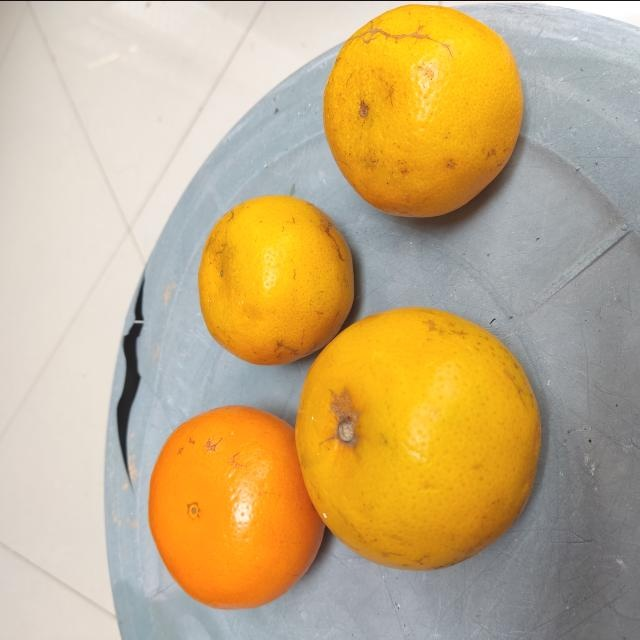agrume: (295, 306, 545, 570), (320, 0, 529, 218), (197, 193, 359, 365)
